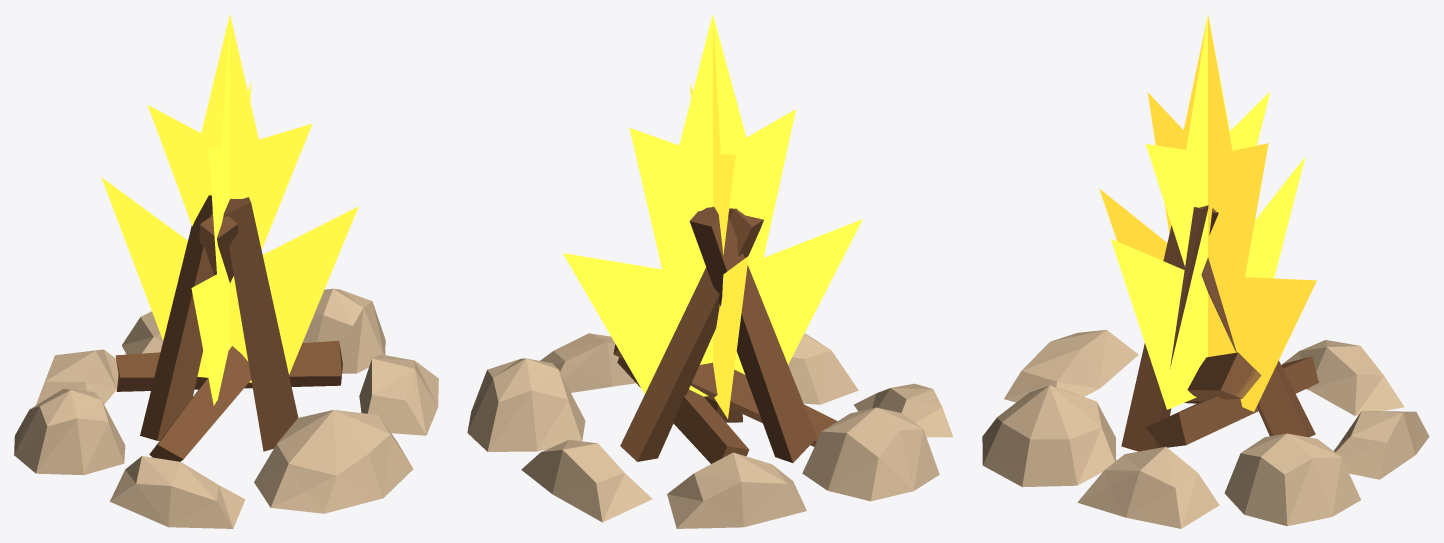
File: fireplace.glb
3 views of the same model, side by side, from view 1: azimuth 30°, elevation 25°; view 2: azimuth 150°, elevation 25°; view 3: azimuth 270°, elevation 25° (orthographic). The views are drawn at different scales.
Visible parts, largest first — view 1: fireplace; view 2: fireplace; view 3: fireplace.
Part boxes in pixels (x1,y1,x2,y2): fireplace: (14, 14, 438, 528); fireplace: (467, 14, 953, 528); fireplace: (982, 14, 1429, 528).
Size of the model in its own units: 1.62 by 1.62 by 1.51.
1 material, 1 textured.
